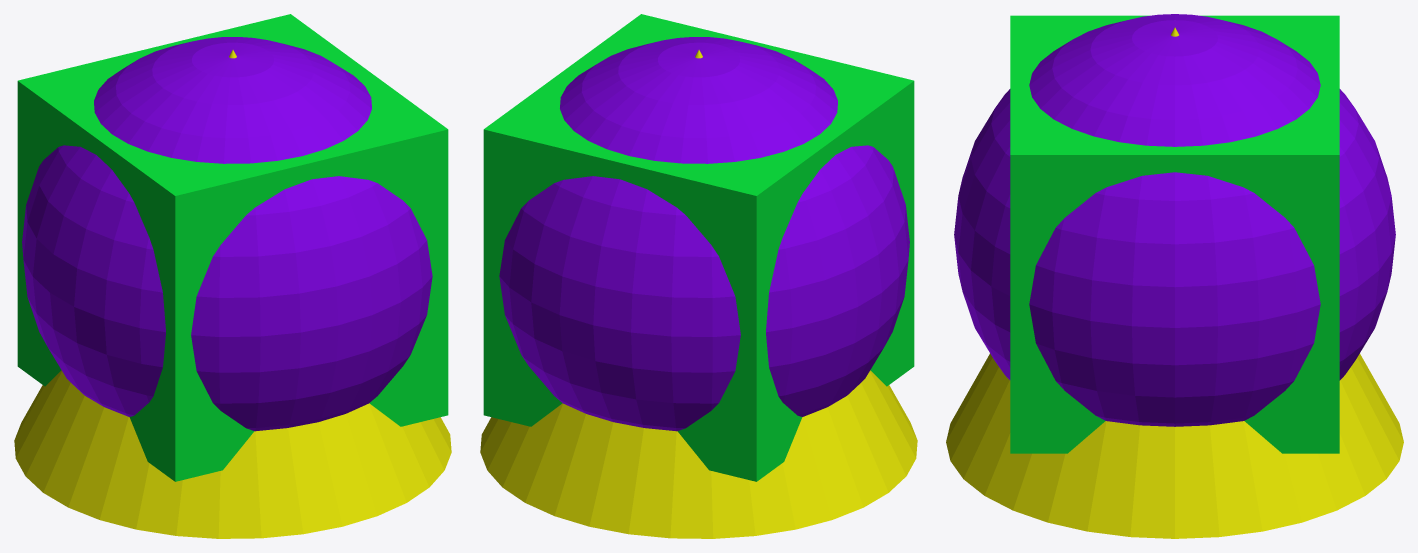
Rendered from shapes.glb.
3 views of the same model, side by side, from view 1: azimuth 30°, elevation 25°; view 2: azimuth 150°, elevation 25°; view 3: azimuth 270°, elevation 25° (orthographic). The views are drawn at different scales.
Visible parts, largest first — view 1: Sphere, Cube, Cone; view 2: Sphere, Cube, Cone; view 3: Sphere, Cube, Cone.
Boxes of the visible parts, x1,y1,x2,y2 form: Sphere: (22,37,432,431); Cube: (17,14,448,481); Cone: (14,50,451,538); Sphere: (499,37,909,431); Cube: (483,14,914,481); Cone: (480,50,917,538); Sphere: (954,14,1395,426); Cube: (1010,15,1339,453); Cone: (946,27,1403,538).
Size of the model in its own units: 4.37 by 4.37 by 4.37.
